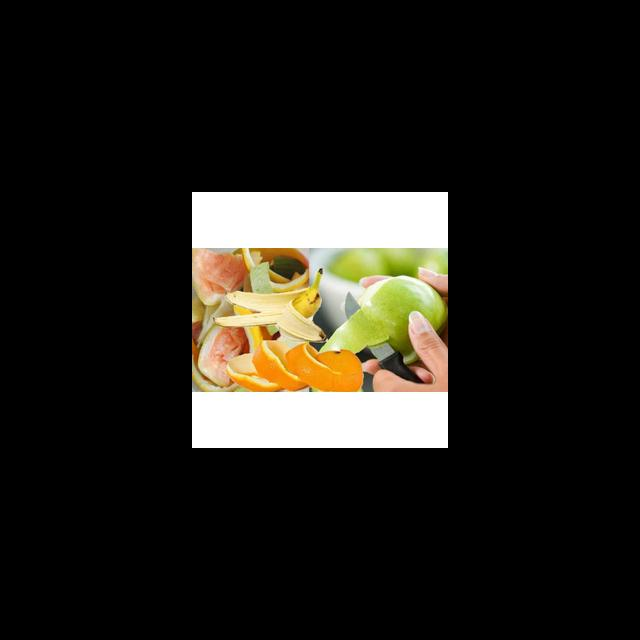food_waste: (194, 250, 364, 394)
